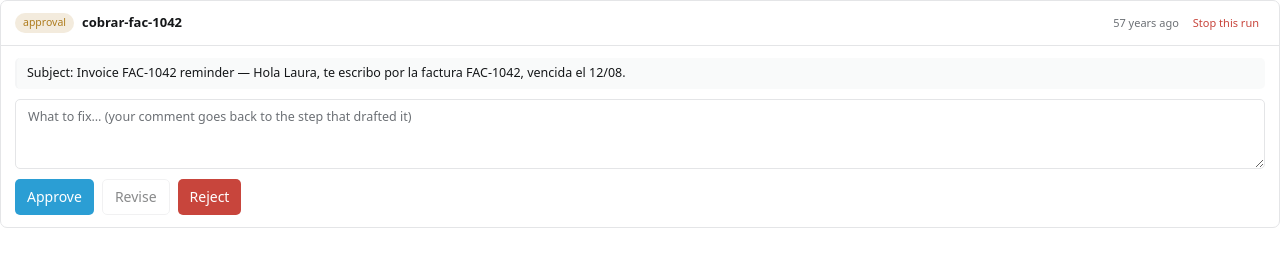
Test: InboxView › renders an API error inline instead of throwing, and leaves the card usable to retry
What coordinates should you click on to do the following:
click the button "Approve"
I would click on:
 (54, 197)
Its box is [15,179,94,215].
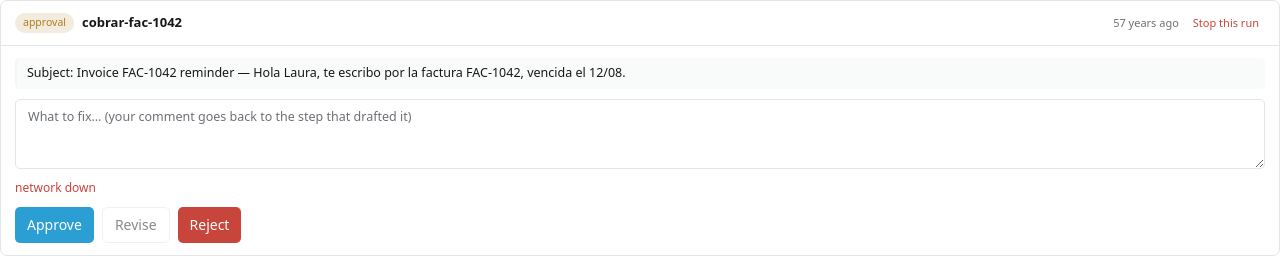
Expected: the button "Approve" is enabled, [15,207,94,243]
Expected: the text "network down" is shown, [15,179,96,196]
